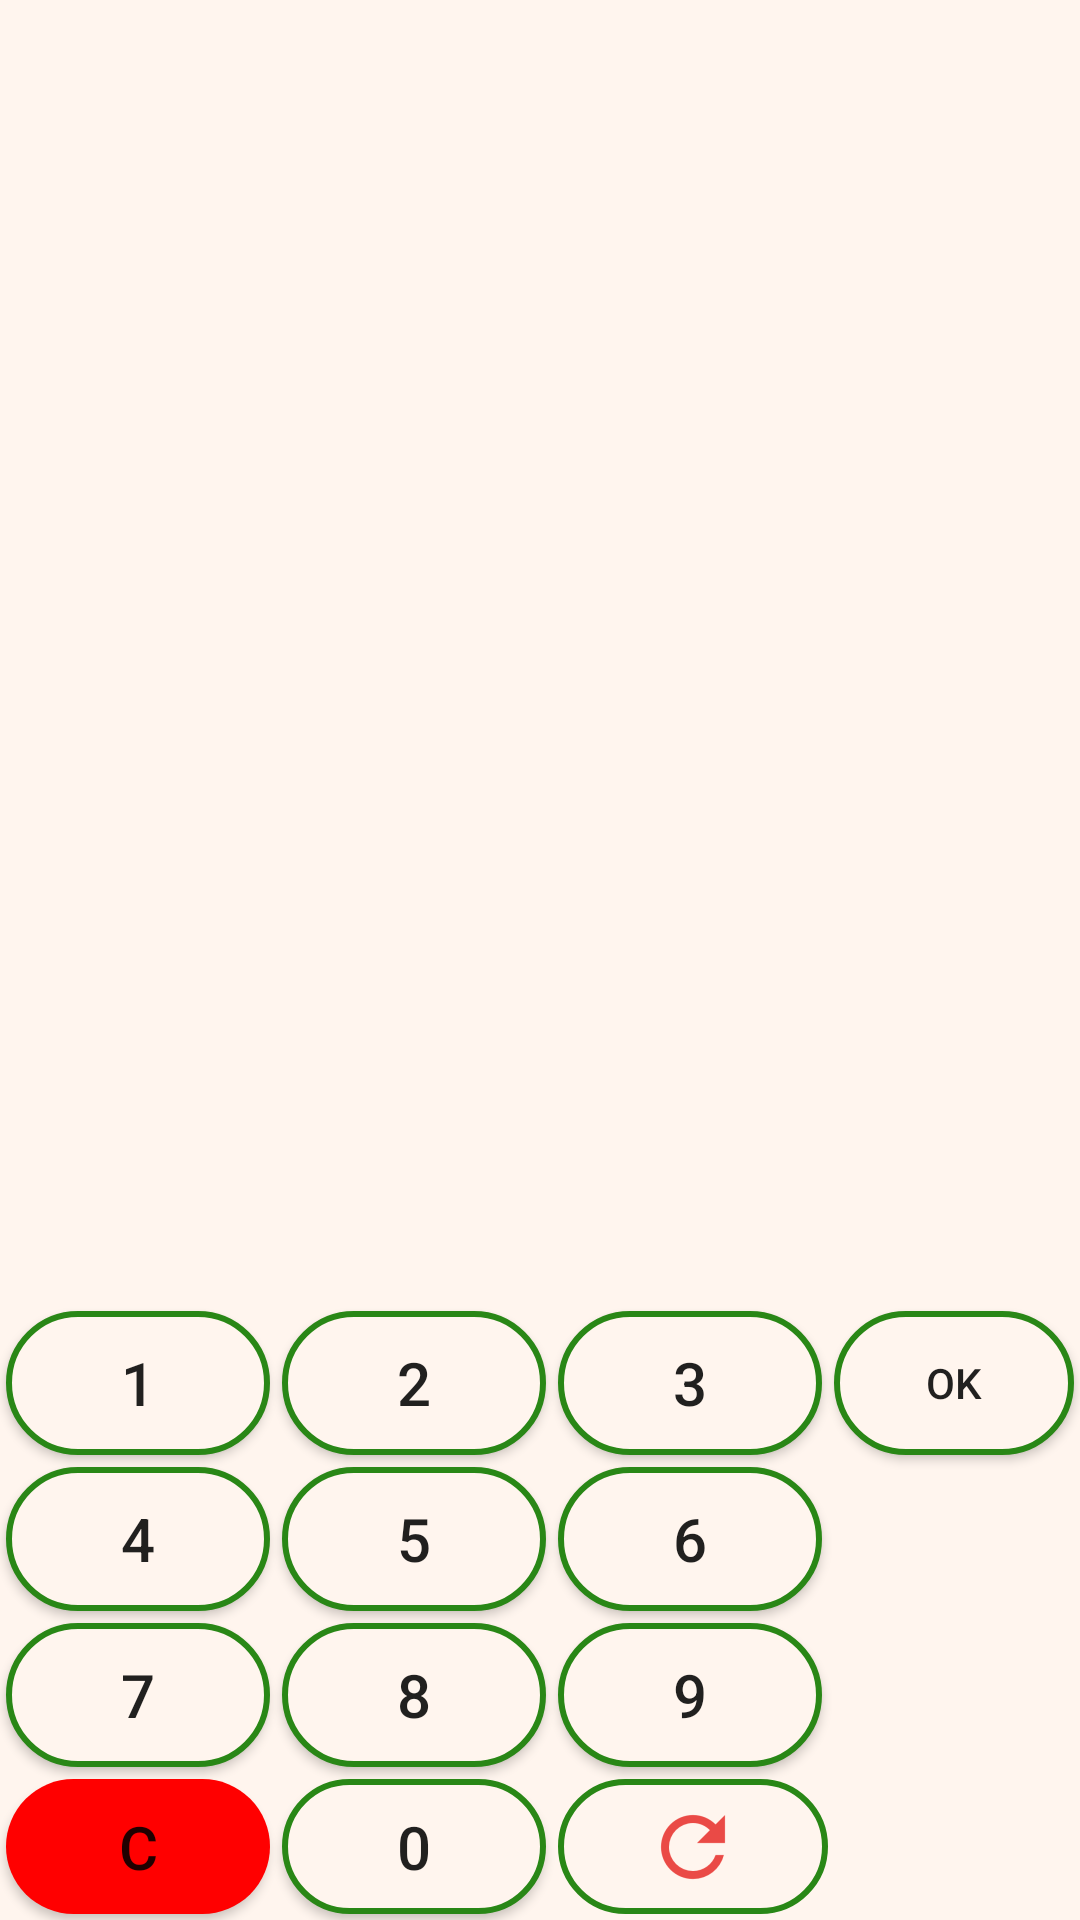

Where icons sit on this 1080 x 1920 app screen, as BBox(x1, y1, x2, y2):
Reset score: BBox(558, 1779, 828, 1914)
